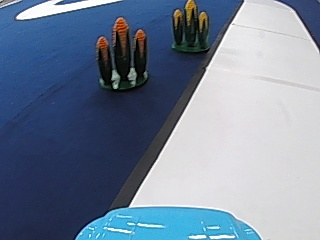corn: (95, 15, 152, 92), (168, 0, 211, 51)
